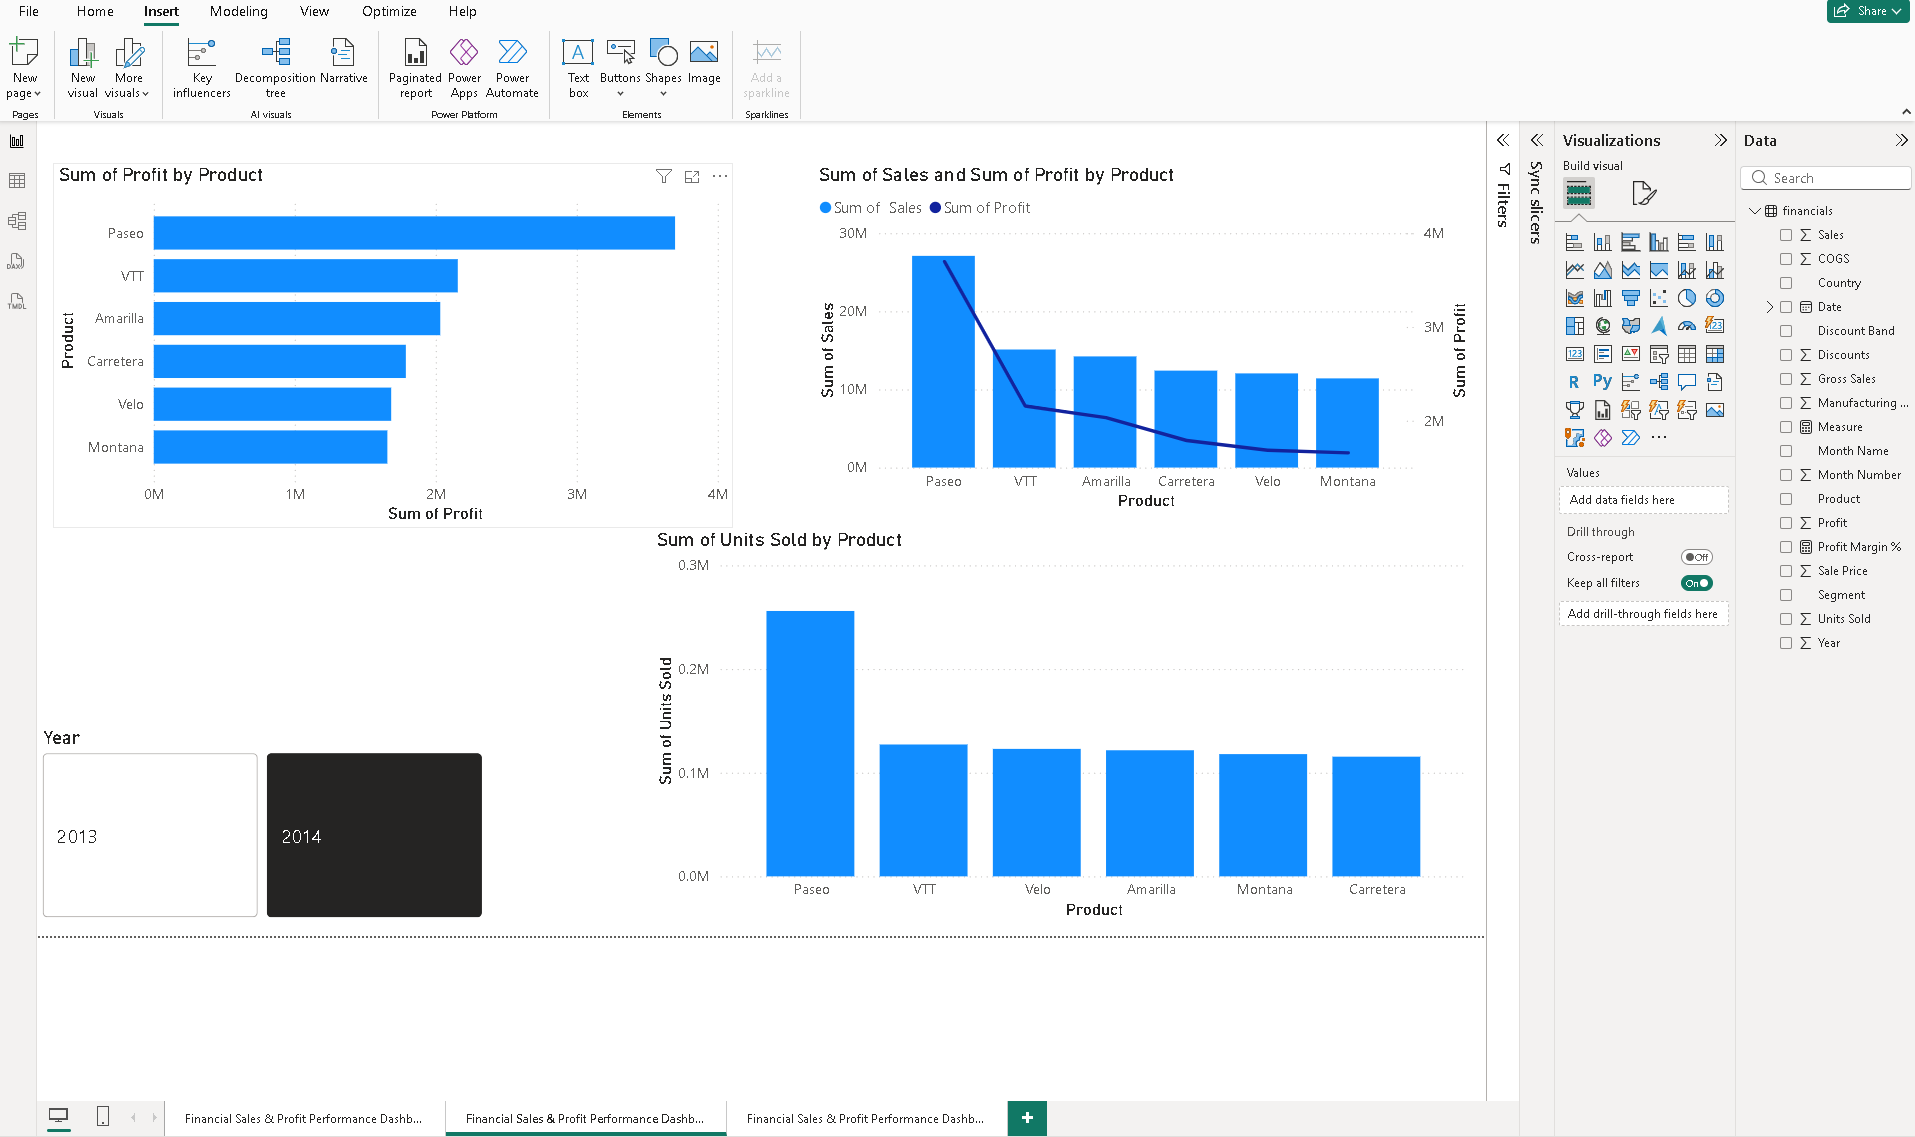

Layout of this report page (visuals, bound fields, positions):
{"tool":"powerbi","page":{"name":"Financial Sales & Profit Performance Dashboard","canvas":[1280,720],"ordinal":1},"visuals":[{"type":"barChart","fields":{"Category":["financials.Product"],"Y":["Sum(financials.Profit)"]},"box":[13.8,37.1,601.2,322.6],"z":0},{"type":"lineClusteredColumnComboChart","fields":{"Category":["financials.Product"],"Y":["Sum(financials. Sales)"],"Y2":["Sum(financials.Profit)"]},"box":[685.7,37.1,583.1,311.4],"z":1},{"type":"clusteredColumnChart","fields":{"Y":["Sum(financials.Units Sold)"],"Category":["financials.Product"]},"box":[542.3,359.5,726.9,349.7],"z":2},{"type":"advancedSlicerVisual","fields":{"Values":["financials.Year"]},"box":[0,534.4,399.8,174.9],"z":3}]}

Visuals, with their boxes on the page's 1280x720 design canvas (x1, y1, x2, y2). These are canvas units, not pixel positions in the 1915x1137 screenshot, which may show the page scaled, cropped or inside an application window:
barChart - financials.Product x Sum(financials.Profit): <box>14,37,615,360</box>
lineClusteredColumnComboChart - financials.Product x Sum(financials. Sales): <box>686,37,1269,348</box>
clusteredColumnChart - Sum(financials.Units Sold) x financials.Product: <box>542,360,1269,709</box>
advancedSlicerVisual - financials.Year: <box>0,534,400,709</box>
